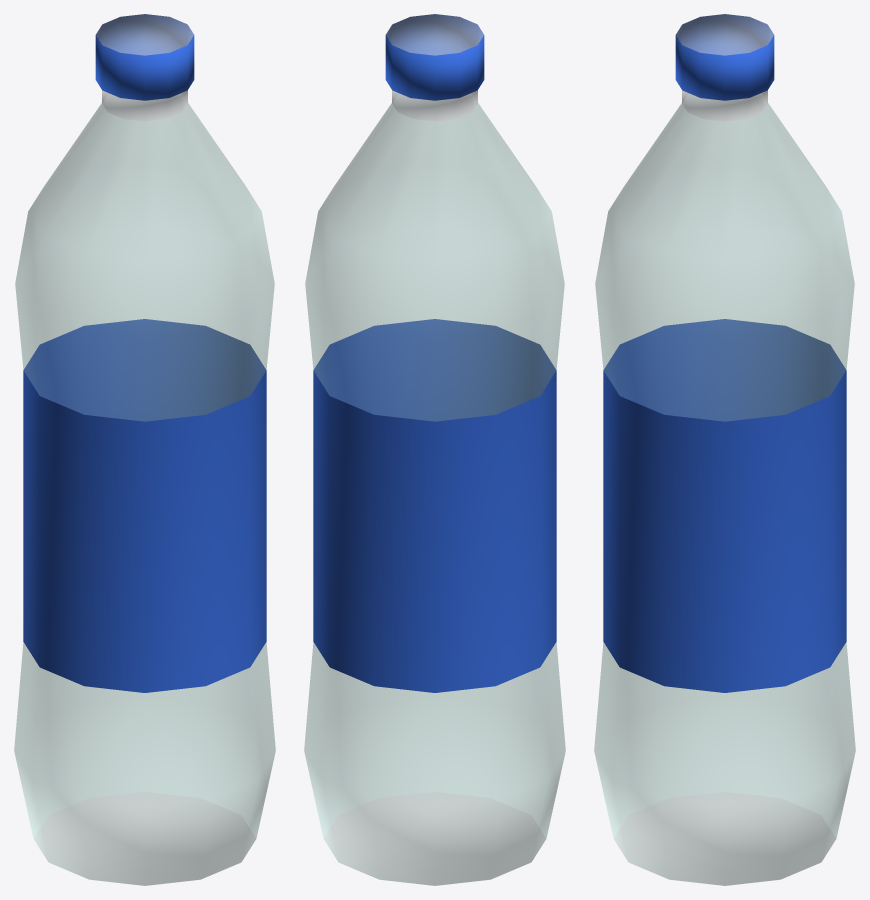
Rendered from water.fbx.
3 renders of one model, left to right at view 1: azimuth 30°, elevation 25°; view 2: azimuth 150°, elevation 25°; view 3: azimuth 270°, elevation 25°, orthographic.
Visible parts, largest first — view 1: water; view 2: water; view 3: water.
Part boxes in pixels (<box>): water: <box>14,14,275,885</box>; water: <box>304,14,565,885</box>; water: <box>594,14,855,885</box>.
Size of the model in its own units: 17.5 by 59.32 by 17.5.
